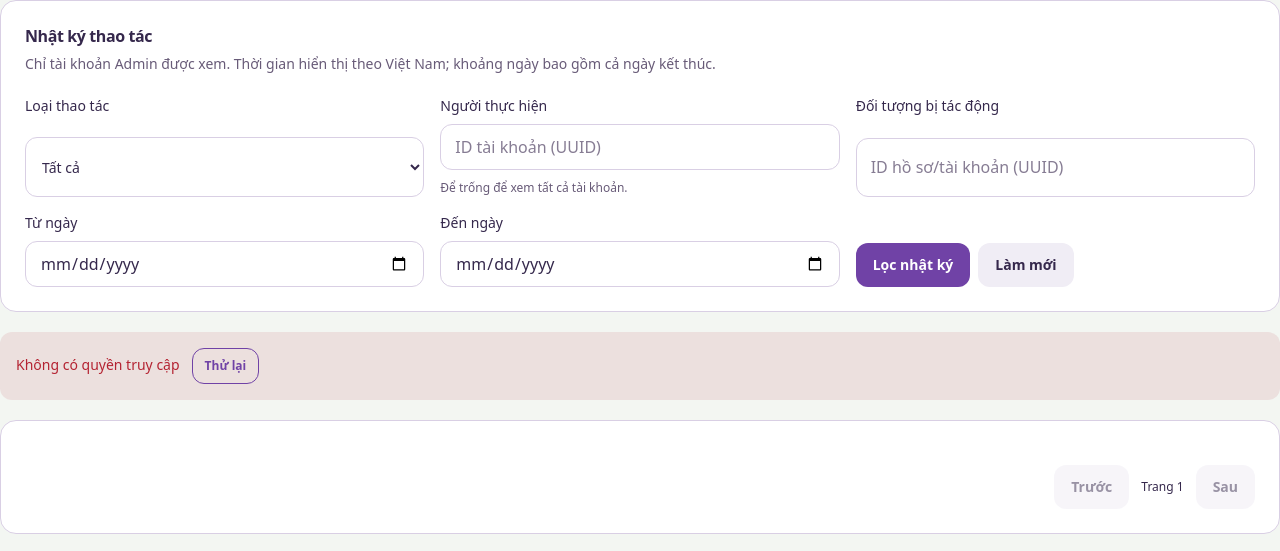
audit viewer › shows errors and can retry without mixing stale rows
The image size is (1280, 551).
Expected: the message shows "Không có quyền truy cập", [16,355,180,374]
Step 1. Click the button "Thử lại" → (225, 366), box [192,348,259,384]
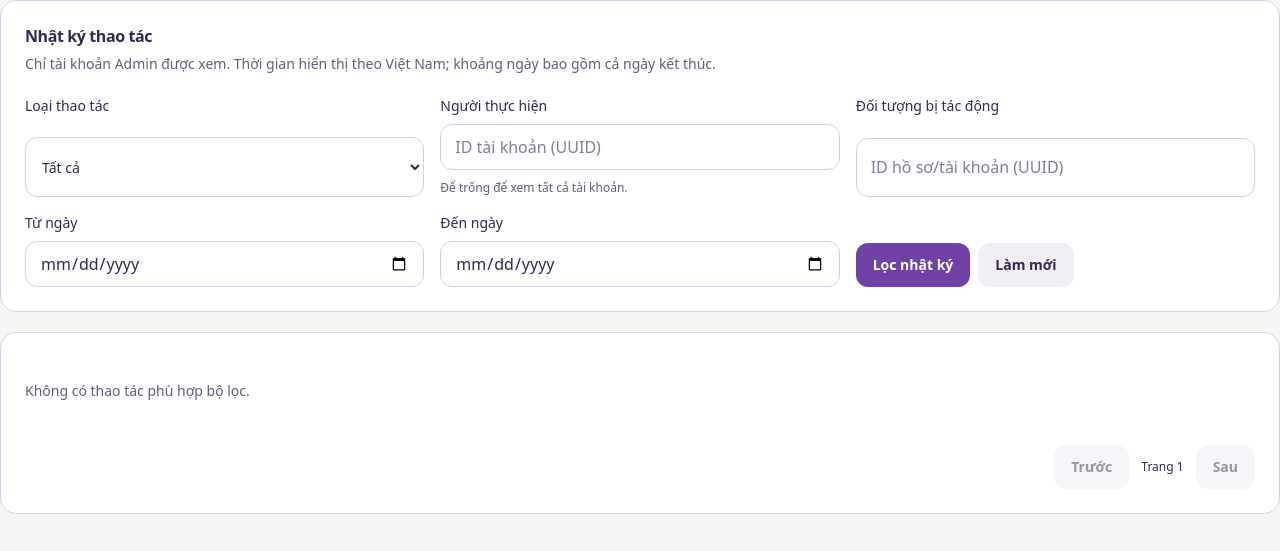
Now the text "Không có thao tác phù hợp bộ lọc." is shown, box [25,381,250,400]
